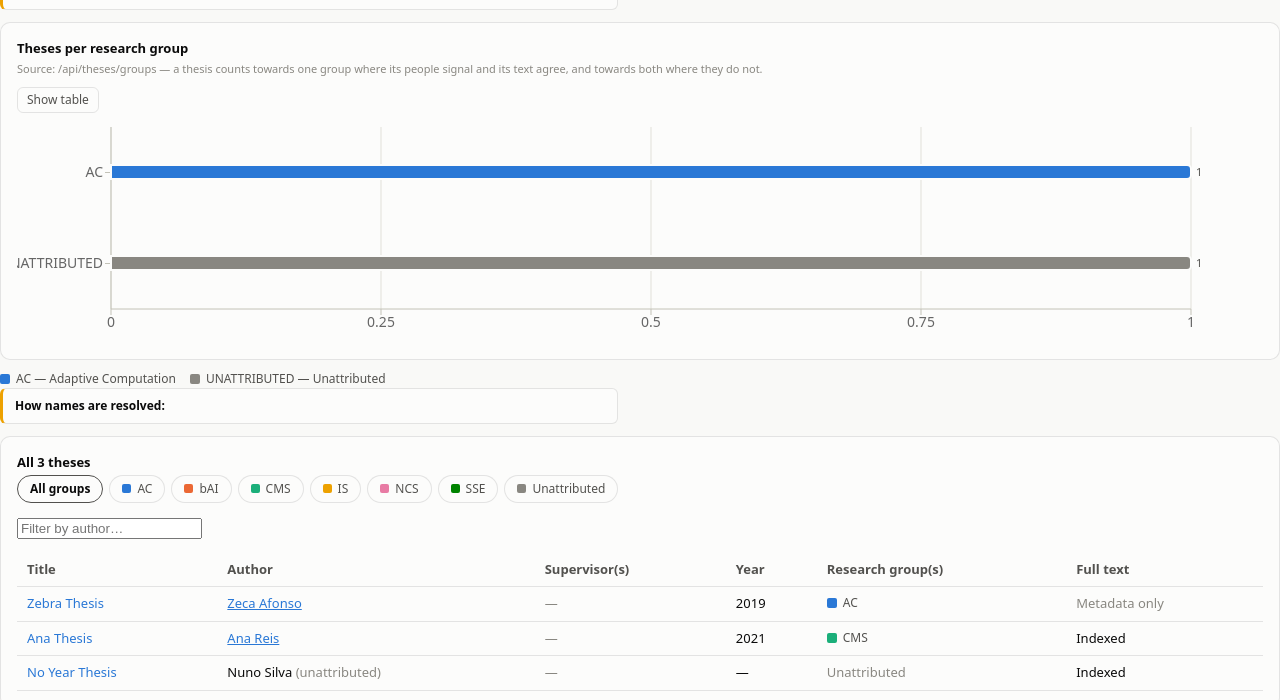
Scenario: Theses table — sorting › shows Clear filters when only a sort is active (no filter), and it resets the sort
This screenshot has width=1280, height=700.
(page scrolled)
Expected: the text "All 3 theses" is shown, 17,453 -> 91,471
Click the button "Year": (750,570) 736,560 -> 765,579
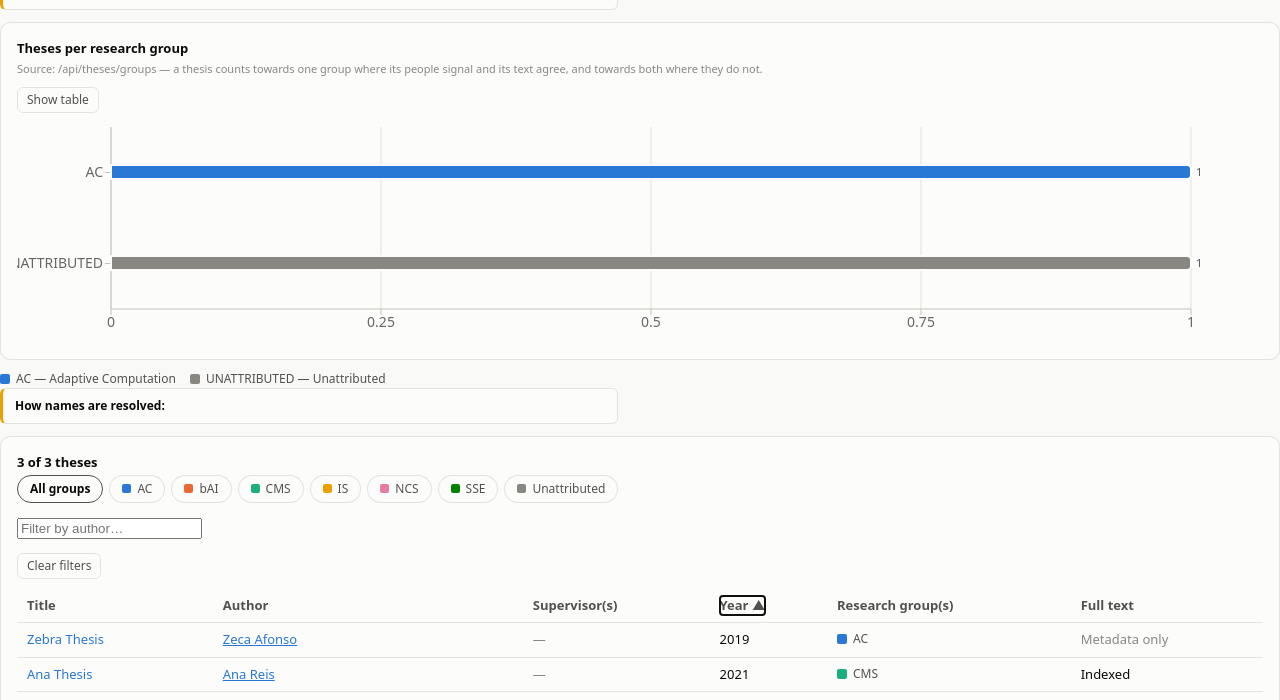
Result: the text "3 of 3 theses" is shown at 17,453 -> 98,471
Click the button "Clear filters": (59,566) 17,553 -> 101,579
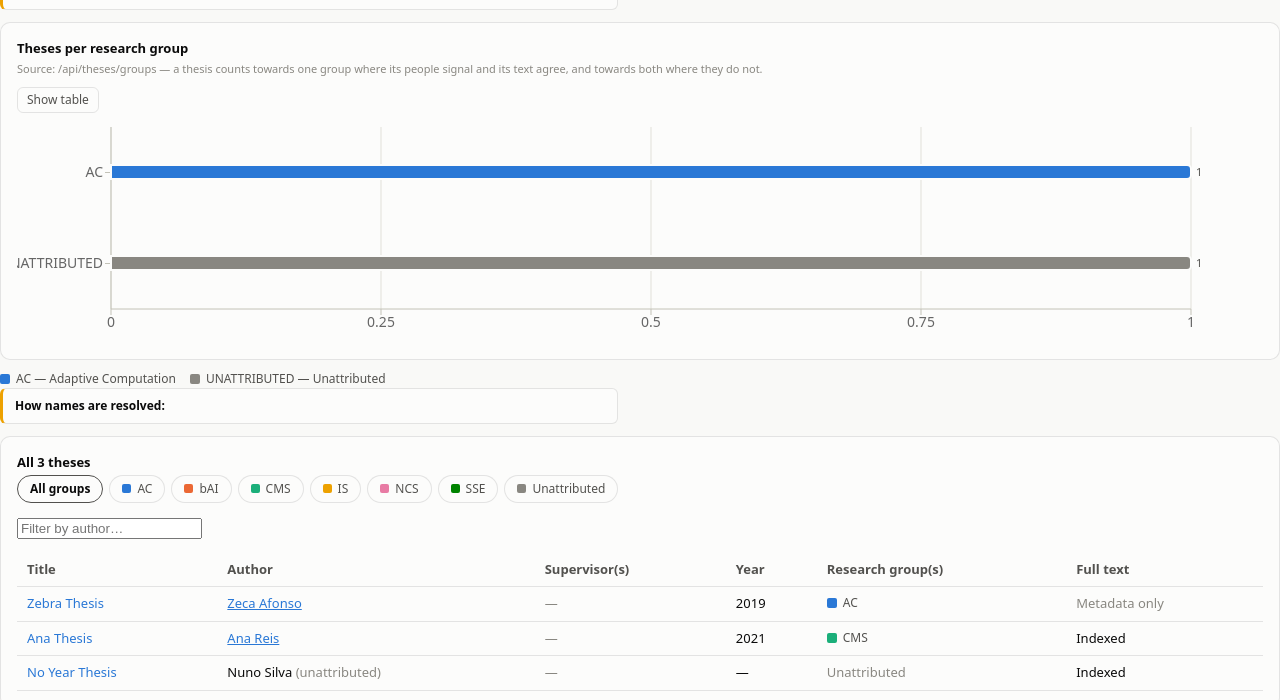
Result: the text "All 3 theses" is shown at 17,453 -> 91,471
Result: the button "Clear filters" is gone
